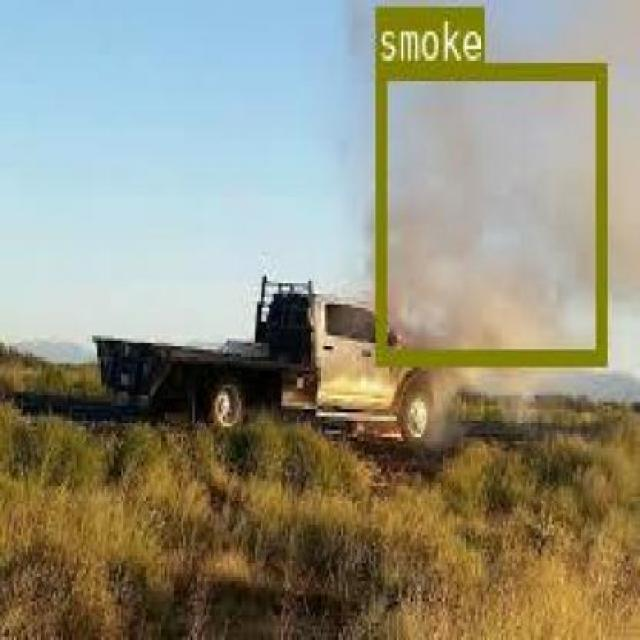Smoke: (372, 59, 606, 361)
